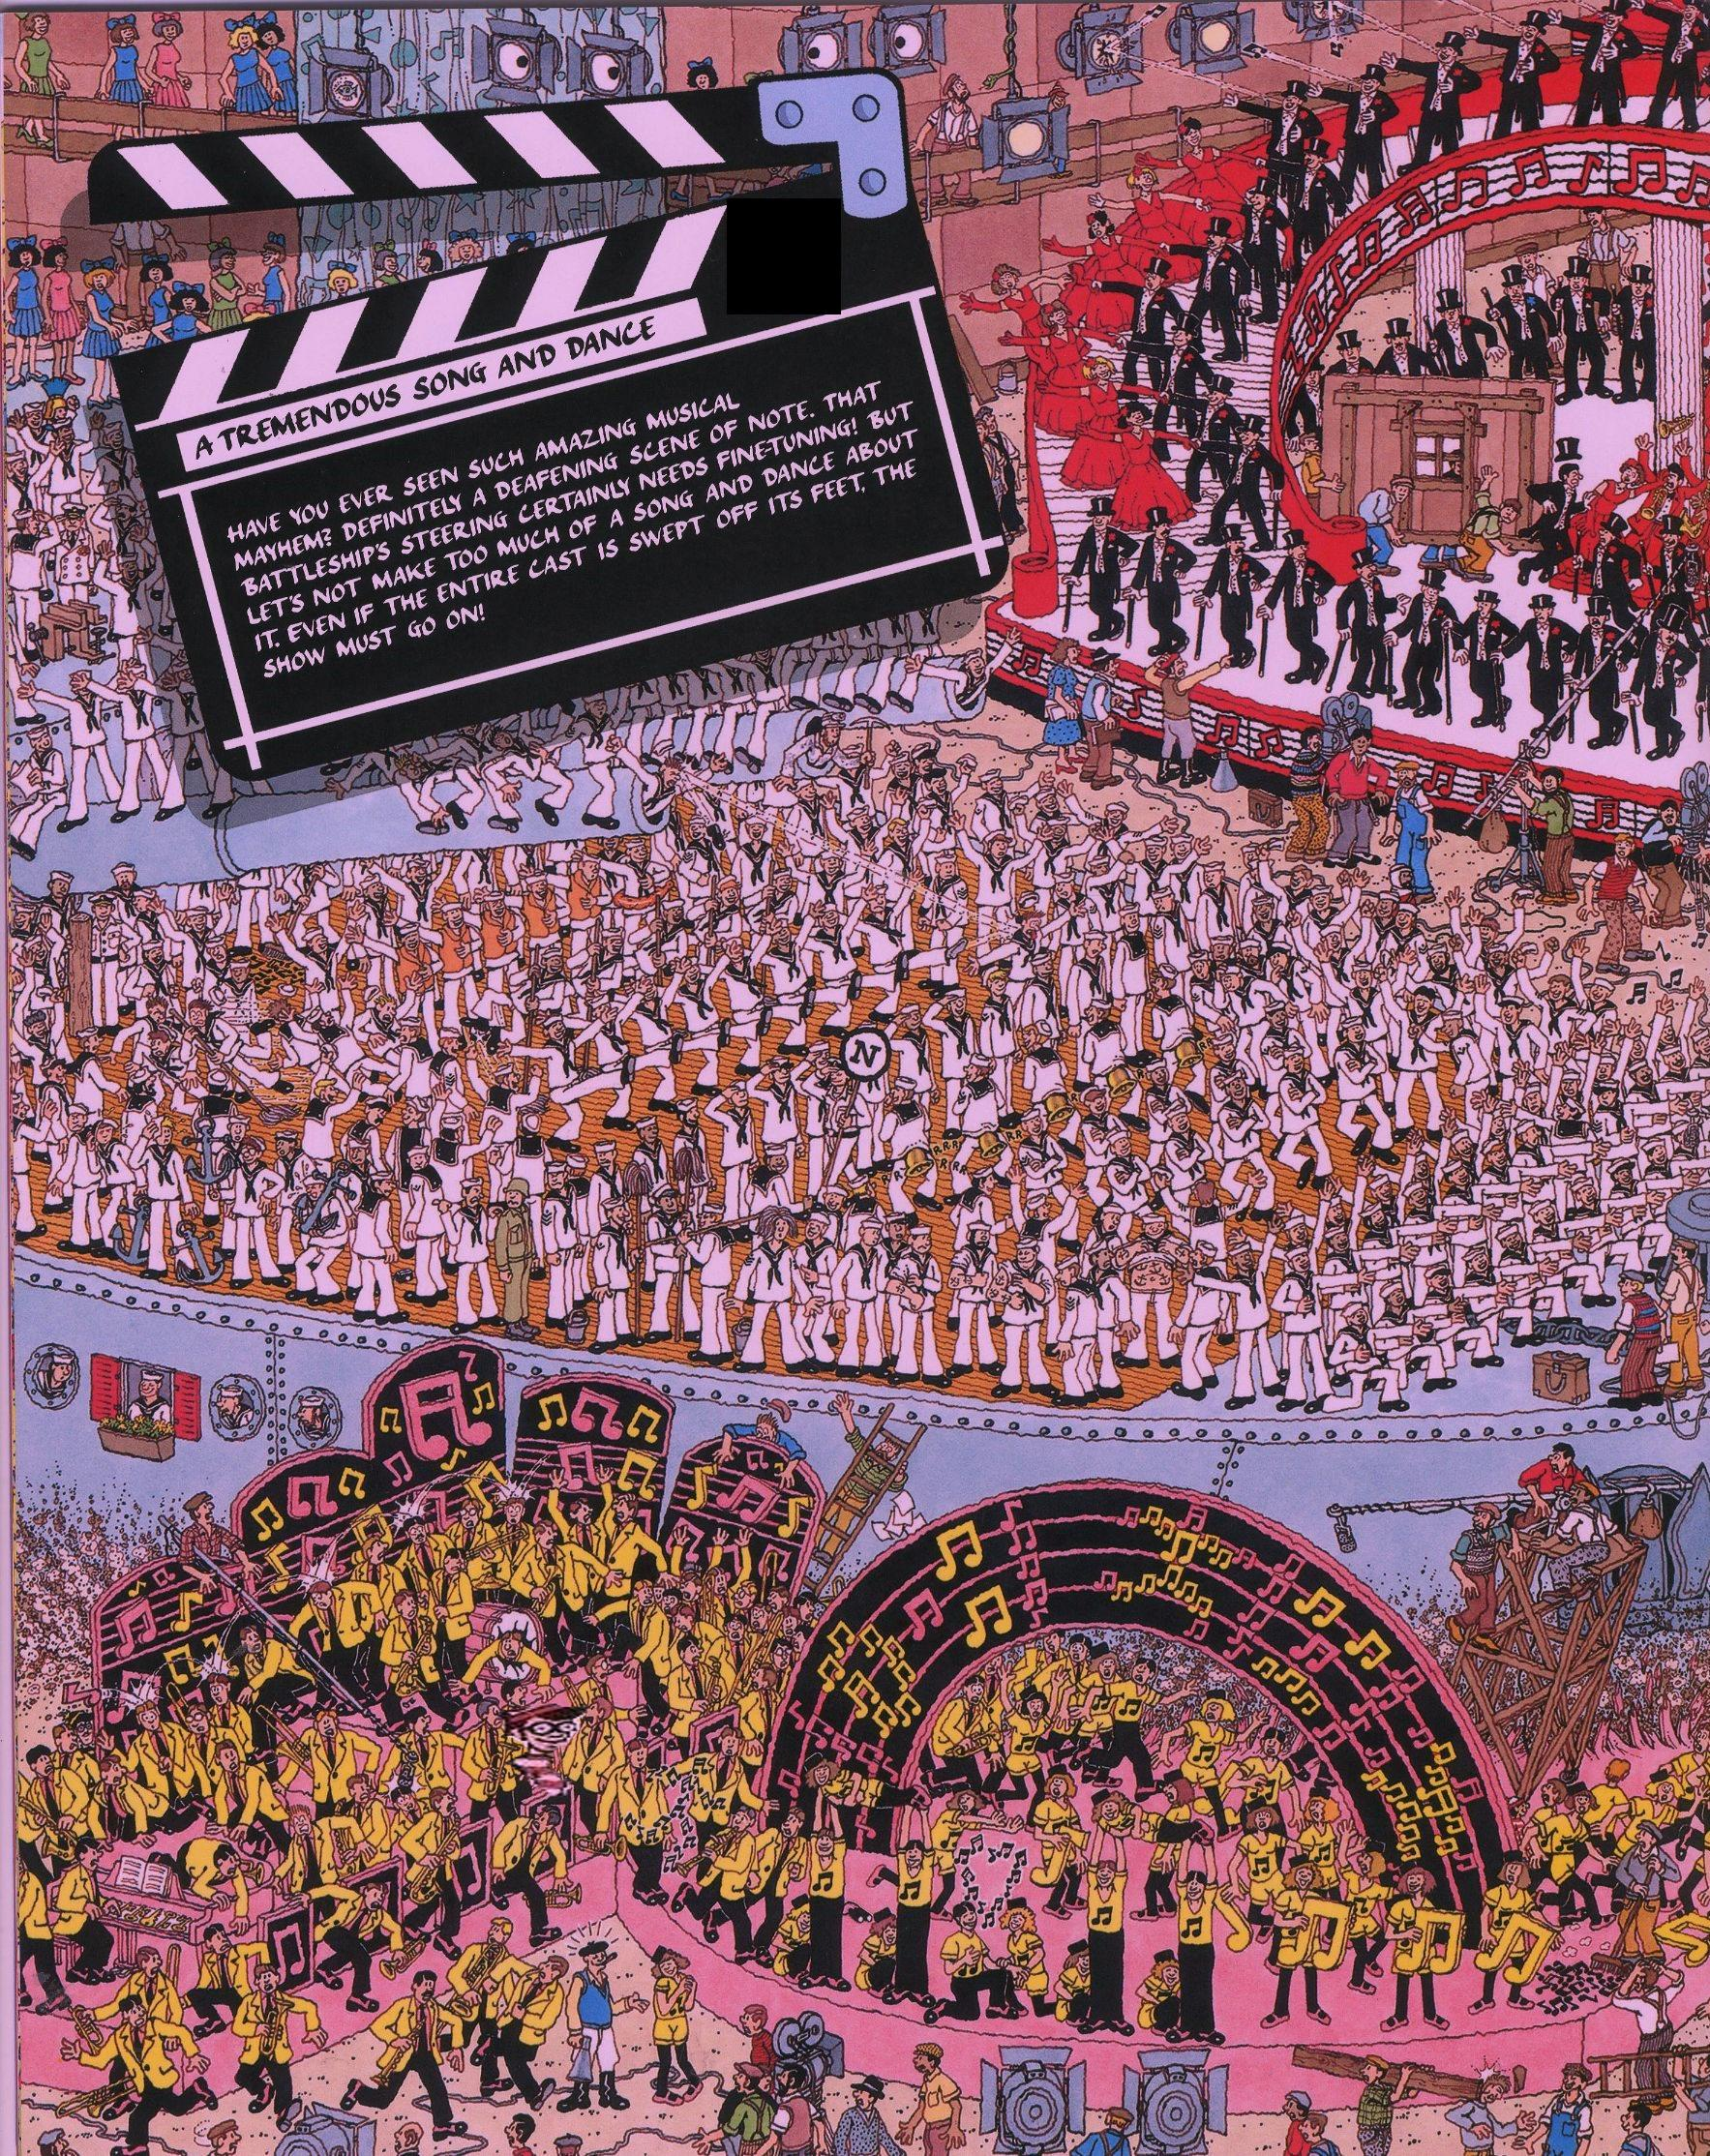waldos: (481, 1692, 597, 1808)
